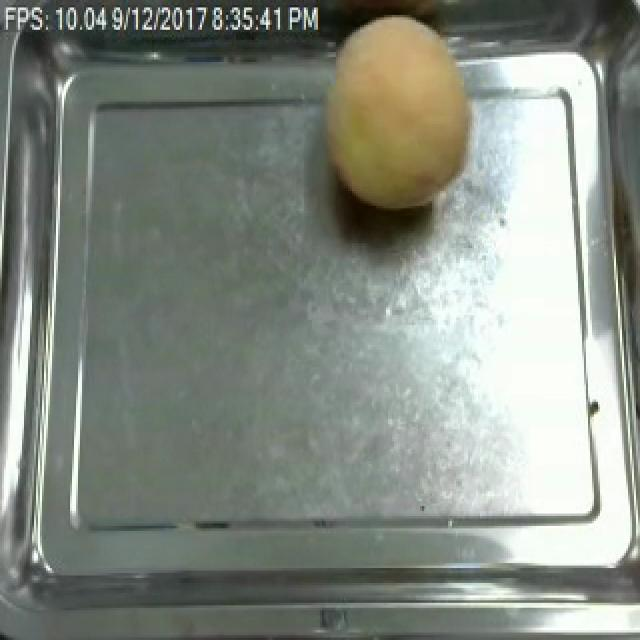Fruit: (310, 8, 486, 218)
